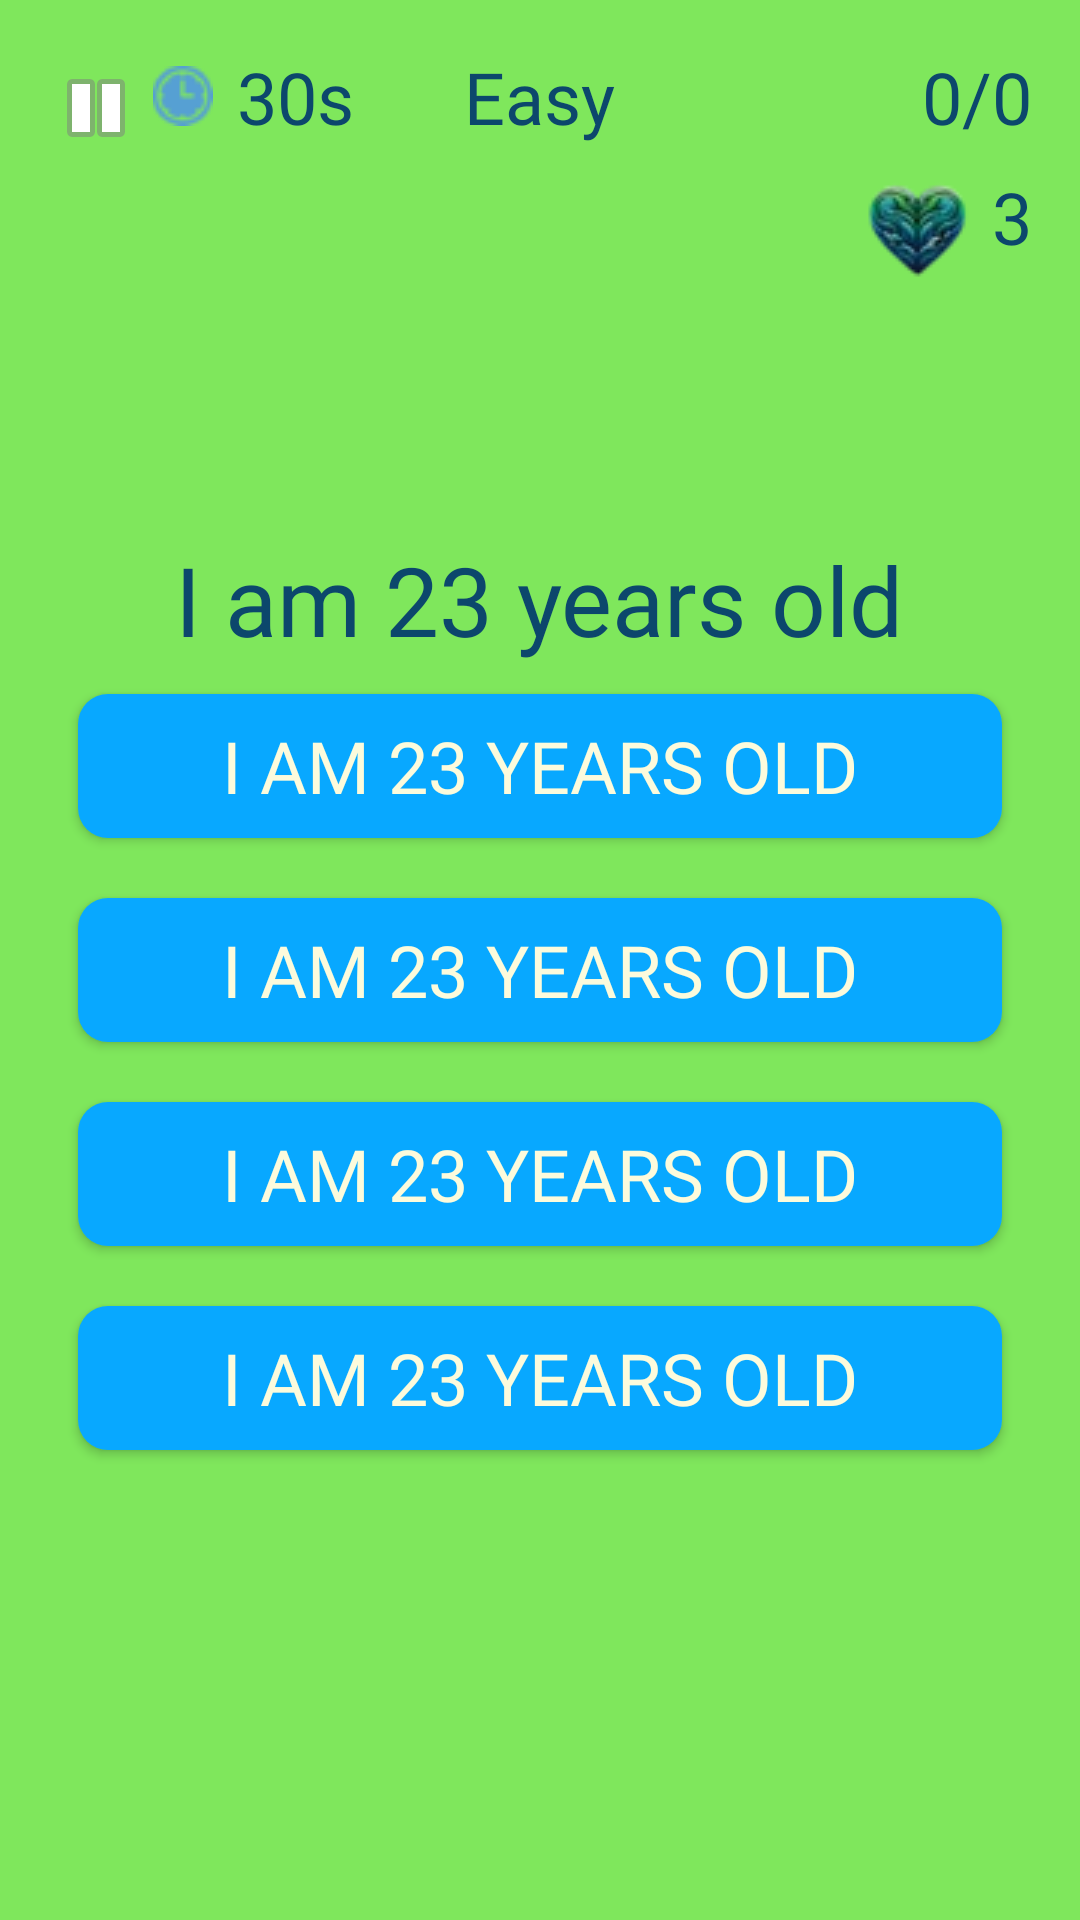

Named icons in this screenshot (1080x1920) and their centers, (x,y):
Pause Menu: (96,108)
